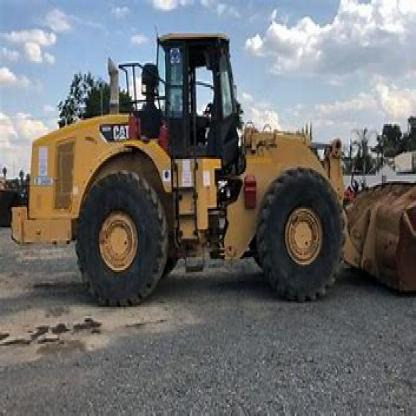bull_dozer/loader/grader: (7, 28, 415, 305)
